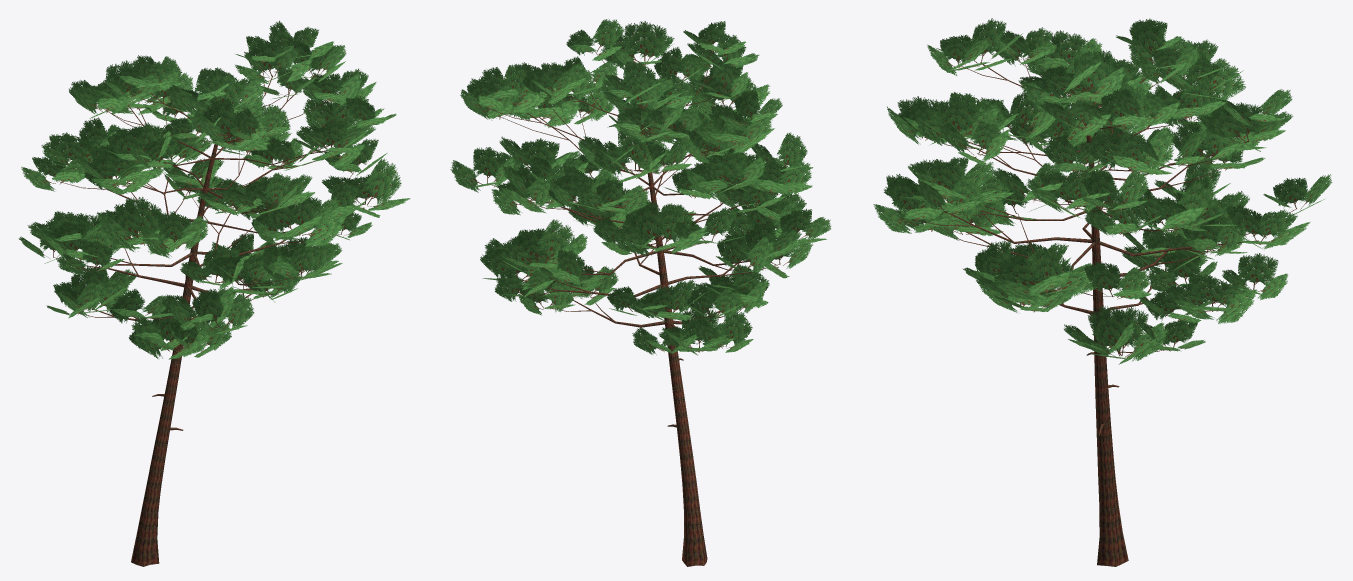
File: pine_dalat_windswept.glb
The picture shows the model from 3 angles, left to right: view 1: azimuth 30°, elevation 25°; view 2: azimuth 150°, elevation 25°; view 3: azimuth 270°, elevation 25°; orthographic projection. The views are drawn at different scales.
Parts seen in each view (by area): view 1: pine_dalat_windswept; view 2: pine_dalat_windswept; view 3: pine_dalat_windswept.
Boxes of the visible parts, box(x1,y1,x2,y2) form: pine_dalat_windswept: box(18, 20, 410, 566); pine_dalat_windswept: box(450, 19, 830, 566); pine_dalat_windswept: box(873, 18, 1332, 566).
Size of the model in its own units: 16.86 by 21.77 by 16.88.
2 materials, 2 textured.
